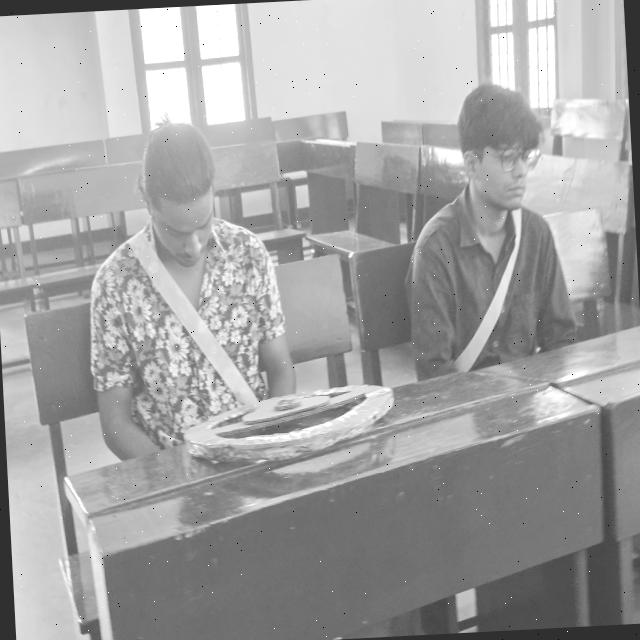seatbelt: (129, 222, 262, 422), (439, 197, 536, 381)
